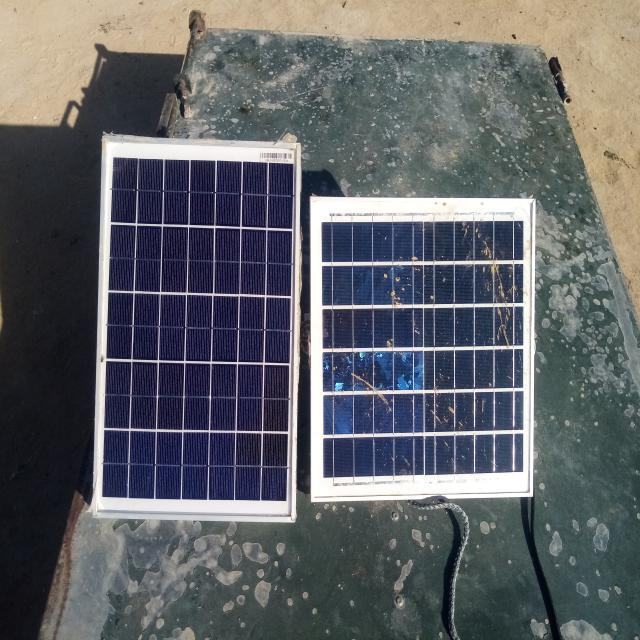Anomaly Solar Panel: (314, 209, 526, 483)
Normal Solar Panel: (94, 136, 302, 522)
Surface Contaminant: (320, 222, 525, 474)
